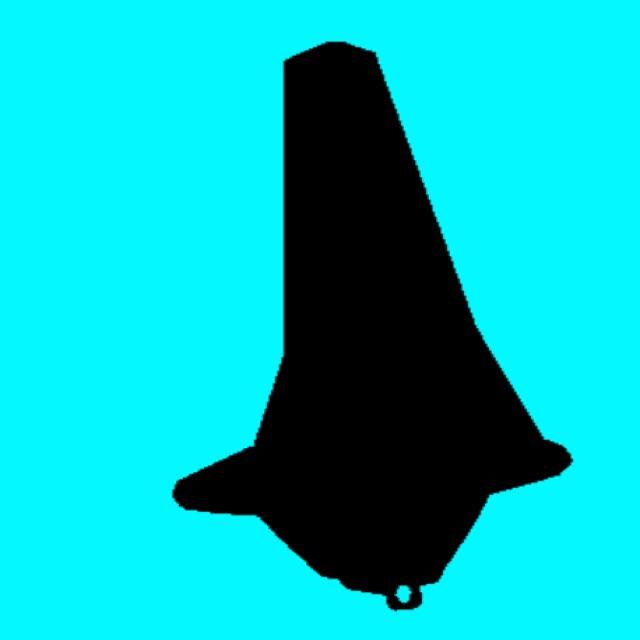BlackBuoy: (174, 42, 570, 609)
